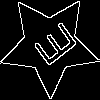E: (25, 20, 79, 74)
